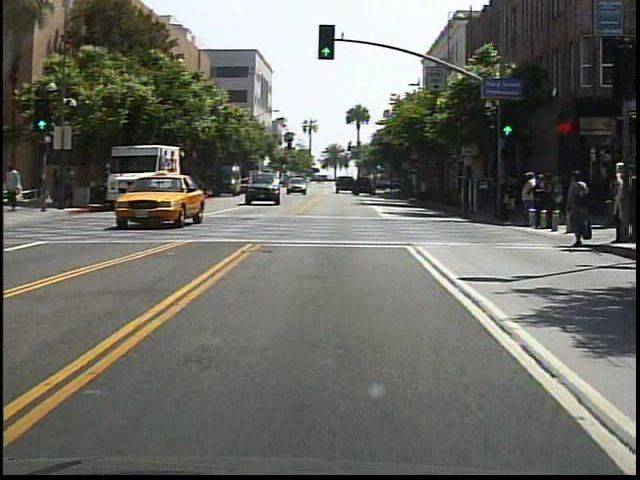person: (562, 168, 593, 248), (519, 166, 538, 226), (7, 162, 28, 213), (64, 165, 80, 209), (53, 167, 66, 209)
